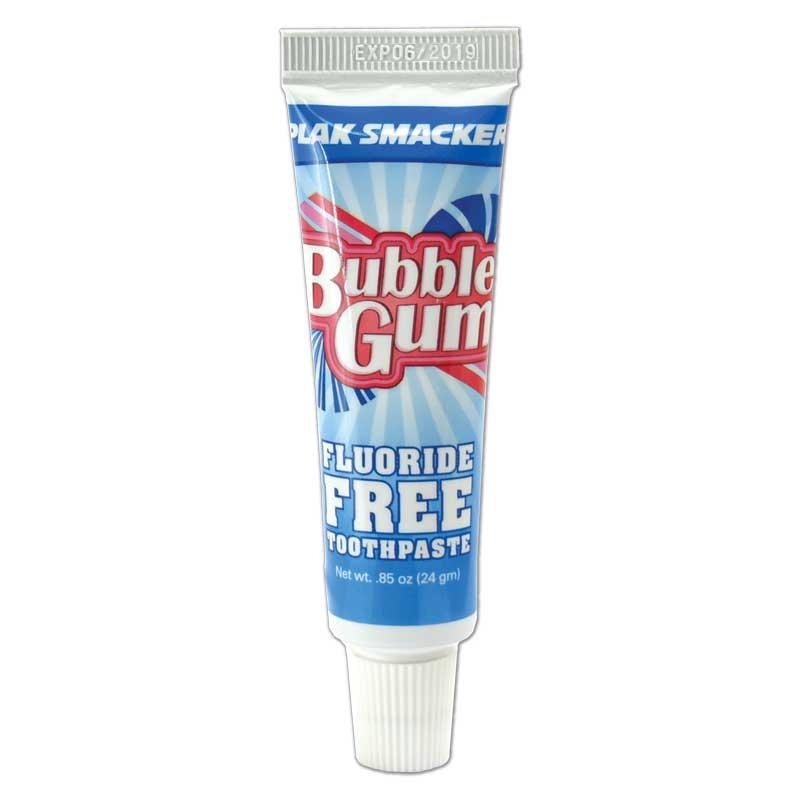toothpaste: (257, 15, 515, 782)
